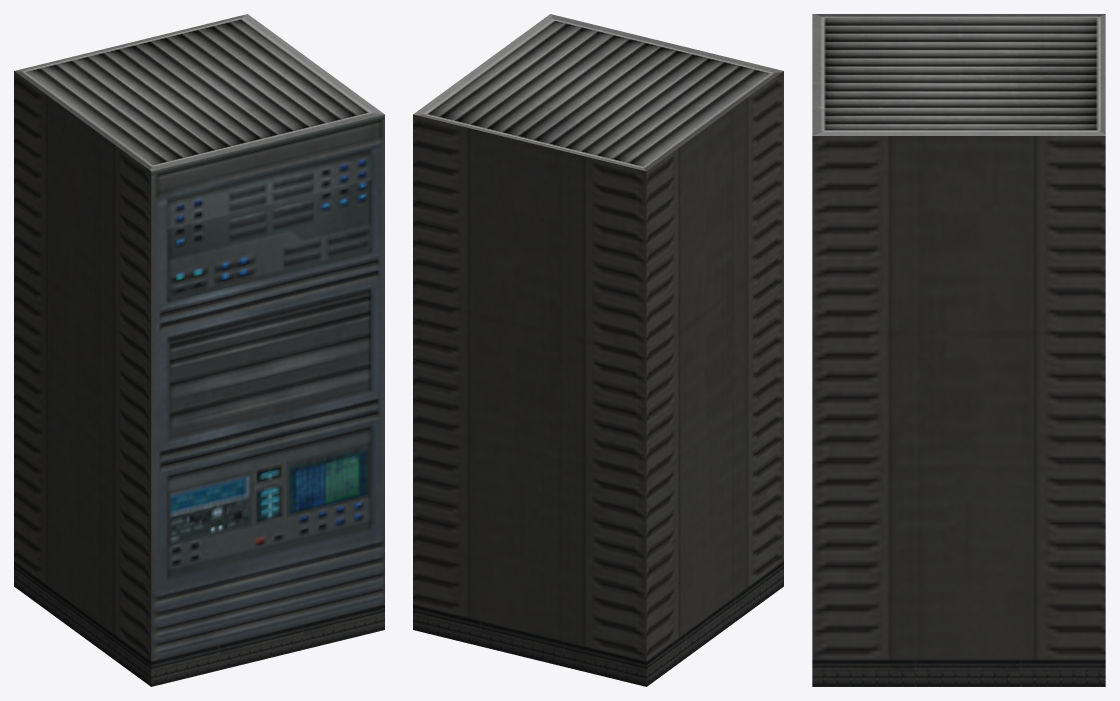
File: armario-interno-3.fbx
3 renders of one model, left to right at view 1: azimuth 30°, elevation 25°; view 2: azimuth 150°, elevation 25°; view 3: azimuth 270°, elevation 25°, orthographic. The views are drawn at different scales.
Parts seen in each view (by area): view 1: Cylinder; view 2: Cylinder; view 3: Cylinder.
Part boxes in pixels (bbox=[...]): Cylinder: bbox=[14, 14, 384, 686]; Cylinder: bbox=[413, 14, 783, 686]; Cylinder: bbox=[812, 14, 1105, 686].
Bounding box in the file's own units: 0.975 × 2.06 × 0.992.
